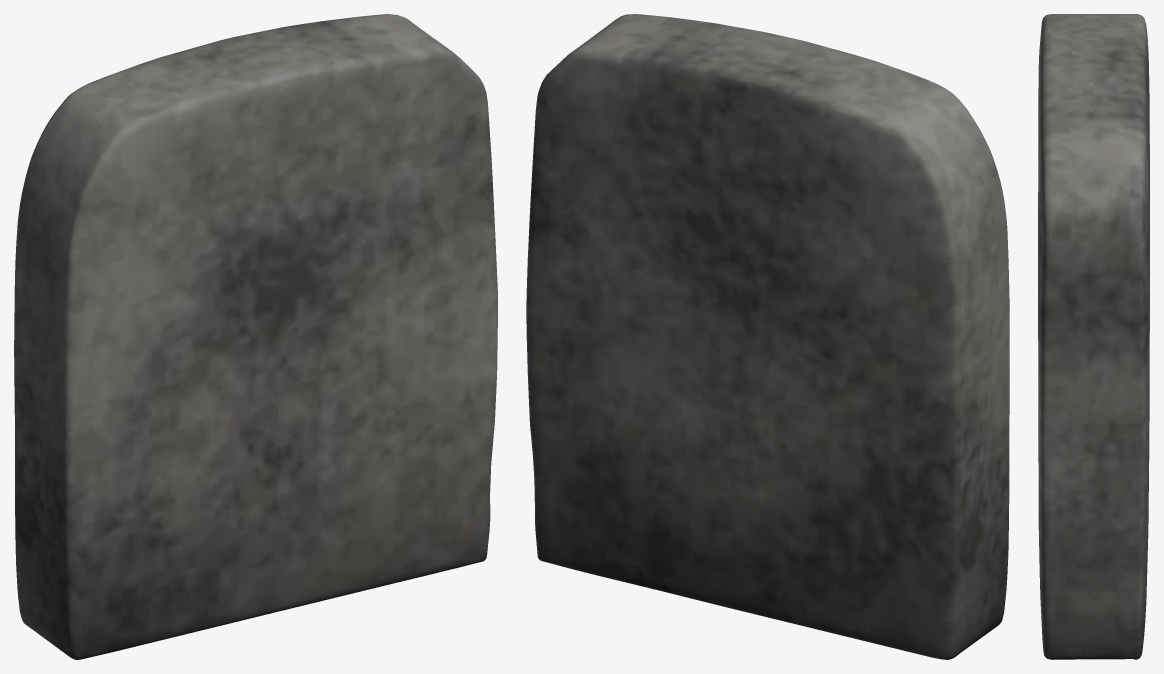
File: road-milestone-v001.glb
The picture shows the model from 3 angles, left to right: view 1: azimuth 30°, elevation 25°; view 2: azimuth 150°, elevation 25°; view 3: azimuth 270°, elevation 25°; orthographic projection. The views are drawn at different scales.
Parts seen in each view (by area): view 1: road-milestone; view 2: road-milestone; view 3: road-milestone.
Part boxes in pixels (x1,y1,x2,y2): road-milestone: (14,14,497,659); road-milestone: (526,14,1009,659); road-milestone: (1038,14,1149,659).
Size of the model in its own units: 0.7558 by 0.8994 by 0.1832.
1 material, 1 textured.
